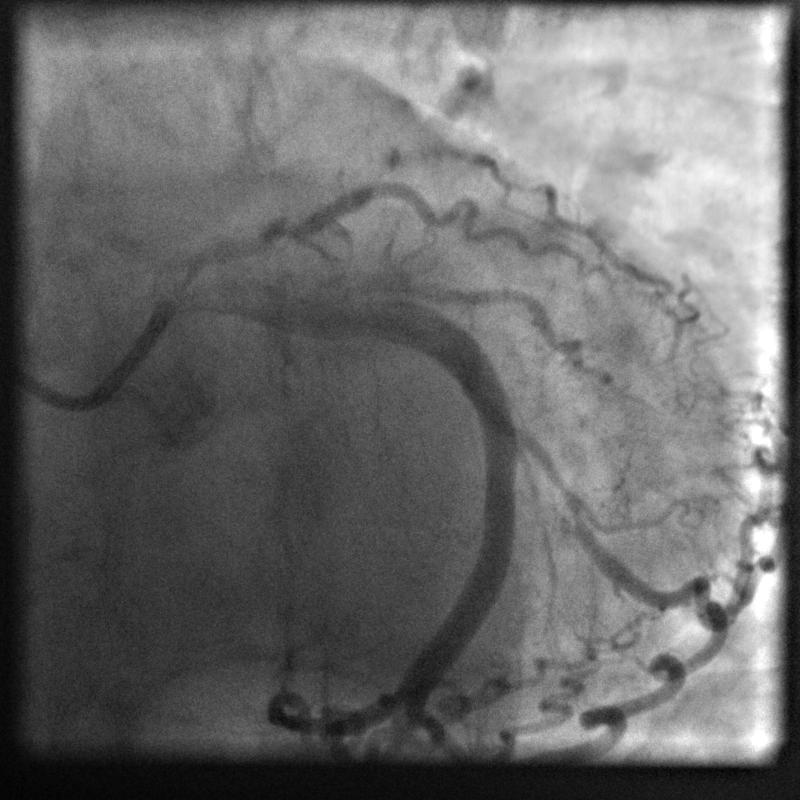Stenosis: (508, 402, 588, 541)
